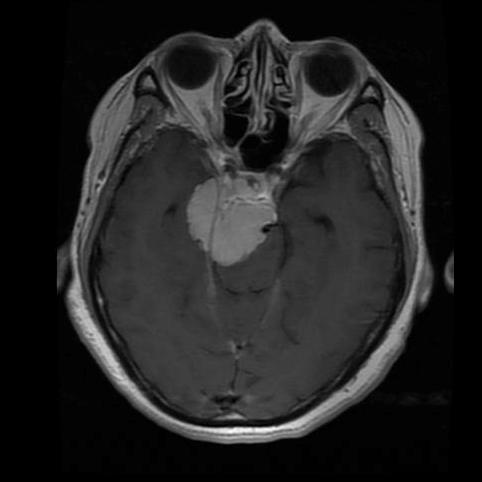Tumour-Meningioma: (177, 168, 287, 291)
